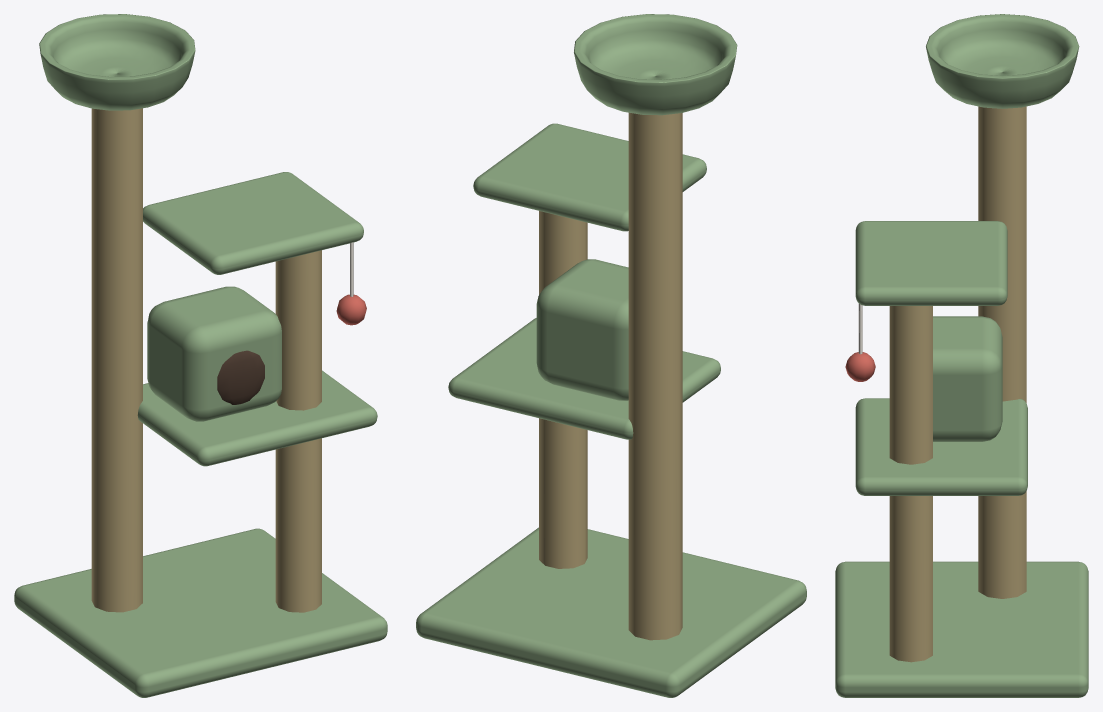
Rendered from petroom_cat_tree.glb.
3 renders of one model, left to right at view 1: azimuth 30°, elevation 25°; view 2: azimuth 150°, elevation 25°; view 3: azimuth 270°, elevation 25°, orthographic. The views are drawn at different scales.
Parts seen in each view (by area): view 1: petroom_cat_tree_mesh; view 2: petroom_cat_tree_mesh; view 3: petroom_cat_tree_mesh.
Boxes of the visible parts, x1,y1,x2,y2 form: petroom_cat_tree_mesh: (14,14,387,697); petroom_cat_tree_mesh: (416,14,806,697); petroom_cat_tree_mesh: (835,14,1088,697).
Bounding box in the file's own units: 0.5715 × 1.23 × 0.5.
